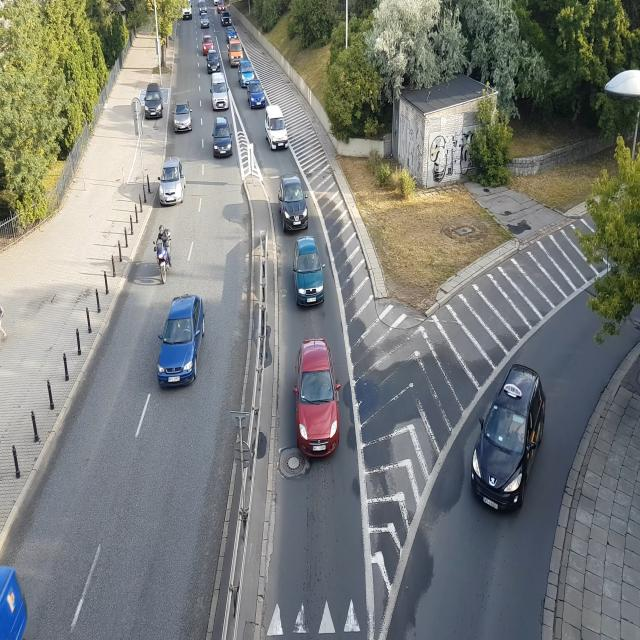car: (469, 364, 544, 510), (294, 337, 338, 470), (158, 288, 205, 395), (294, 240, 327, 308), (278, 175, 310, 231), (154, 159, 187, 207), (211, 115, 233, 159), (264, 112, 288, 150), (142, 86, 165, 121), (212, 77, 231, 110), (172, 105, 192, 134), (249, 86, 268, 108), (239, 62, 254, 86), (227, 43, 242, 63), (181, 0, 194, 22), (206, 52, 220, 72), (202, 38, 214, 56), (228, 27, 240, 42), (198, 0, 208, 15), (200, 17, 212, 28), (222, 13, 232, 26)
motorcycle: (144, 216, 180, 284)
